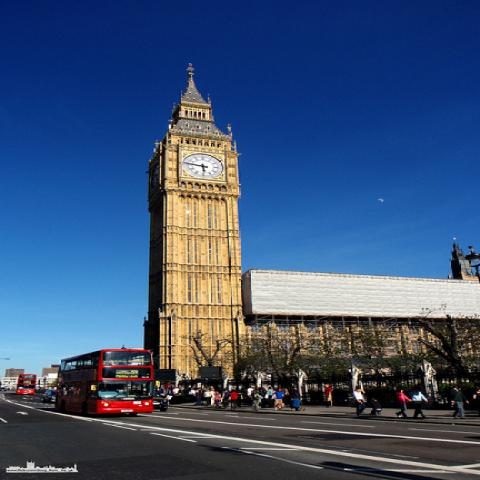bus: (54, 348, 153, 415), (16, 374, 37, 395)
